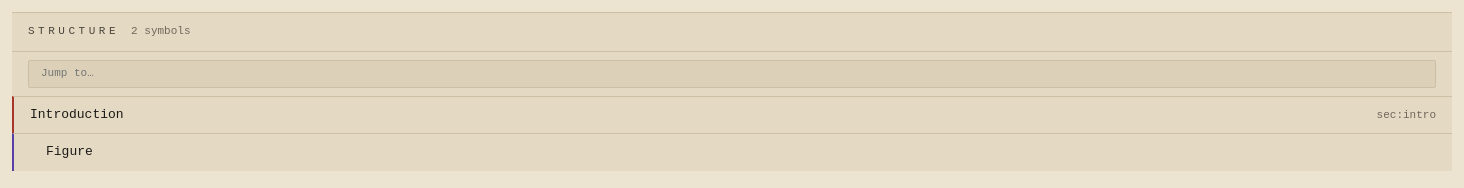
Test: OutlinePanel — collapse / expand › collapses the panel and hides all content
Expected: the text "Introduction" is shown, x1=30 y1=107 x2=124 y2=122
Step 1. Click the button "Structure 2 symbols" → {"x": 74, "y": 31}, box x1=12 y1=13 x2=1452 y2=51
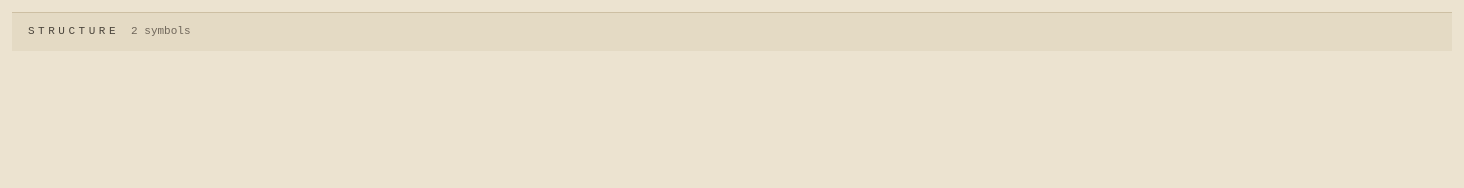
Expected: the button "Introduction" is gone
